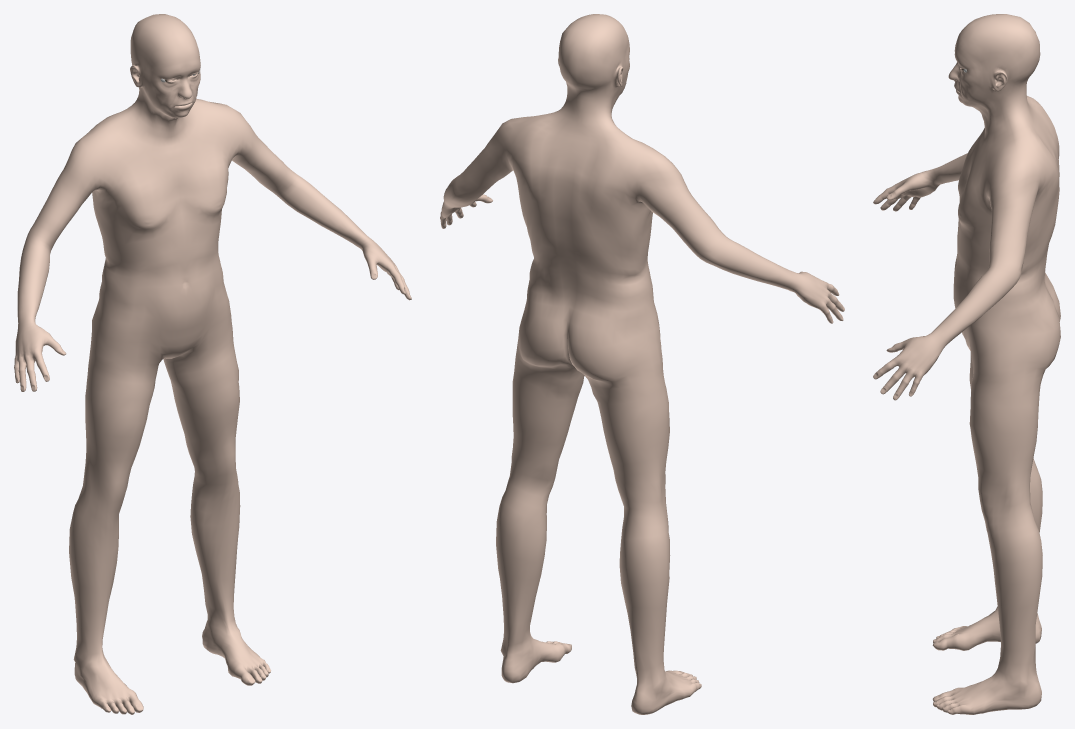
The model's file is patient-elderly.glb.
3 renders of one model, left to right at view 1: azimuth 30°, elevation 25°; view 2: azimuth 150°, elevation 25°; view 3: azimuth 270°, elevation 25°, orthographic.
Parts seen in each view (by area): view 1: Human_patient-elderly; view 2: Human_patient-elderly; view 3: Human_patient-elderly.
Boxes of the visible parts, bbox=[...] form: Human_patient-elderly: bbox=[14, 14, 411, 714]; Human_patient-elderly: bbox=[440, 14, 844, 714]; Human_patient-elderly: bbox=[873, 14, 1060, 714].
Bounding box in the file's own units: 1.09 × 1.76 × 0.4556.
